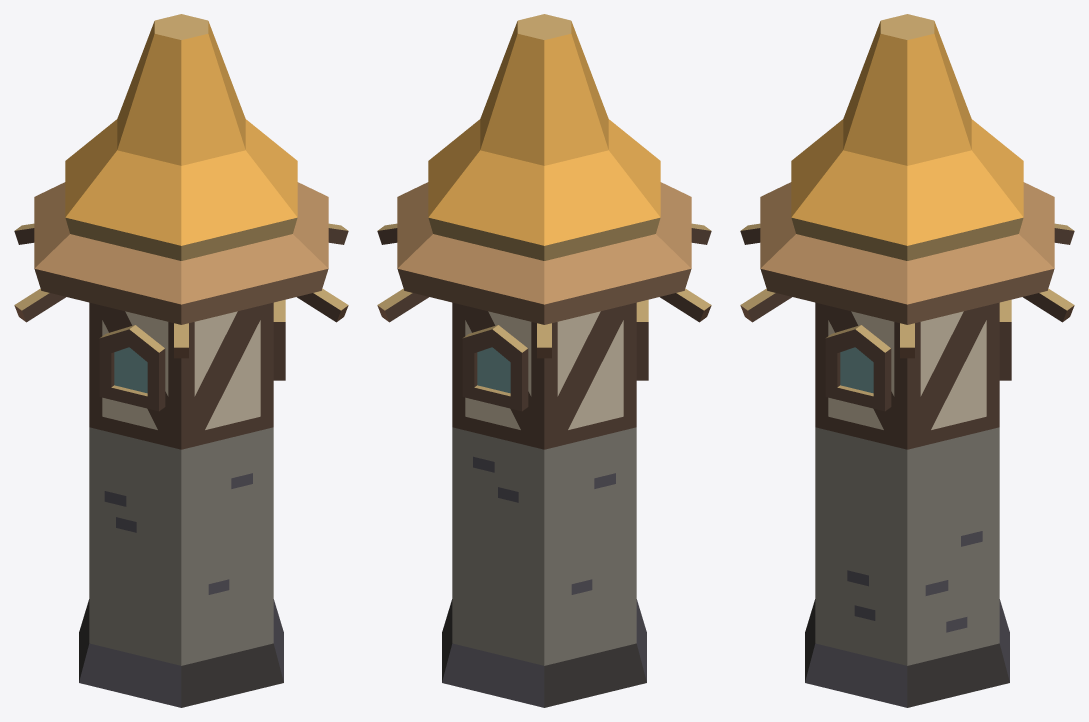
Rendered from TB_Bd_Tower.FBX.
3 views of the same model, side by side, from view 1: azimuth 30°, elevation 25°; view 2: azimuth 150°, elevation 25°; view 3: azimuth 270°, elevation 25° (orthographic).
Parts seen in each view (by area): view 1: TB_Bd_Tower; view 2: TB_Bd_Tower; view 3: TB_Bd_Tower.
Part boxes in pixels (x1=…): TB_Bd_Tower: x1=14, y1=14, x2=348, y2=707; TB_Bd_Tower: x1=377, y1=14, x2=711, y2=707; TB_Bd_Tower: x1=740, y1=14, x2=1074, y2=707.
Bounding box in the file's own units: 4.96 × 9.16 × 4.4.
